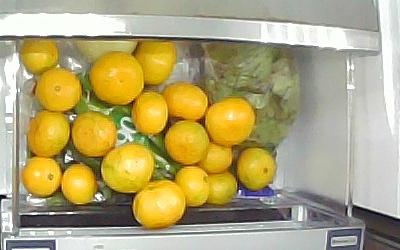tangerine: (86, 53, 144, 105), (100, 144, 156, 193), (133, 181, 185, 228), (207, 97, 255, 147), (26, 109, 71, 157), (73, 110, 117, 159), (164, 121, 210, 167), (35, 69, 84, 112), (162, 82, 210, 122), (135, 41, 177, 84), (237, 147, 278, 191), (21, 156, 62, 199), (130, 92, 168, 137), (169, 166, 209, 206), (63, 162, 98, 206), (18, 40, 59, 75), (206, 172, 240, 206), (200, 142, 234, 174)
